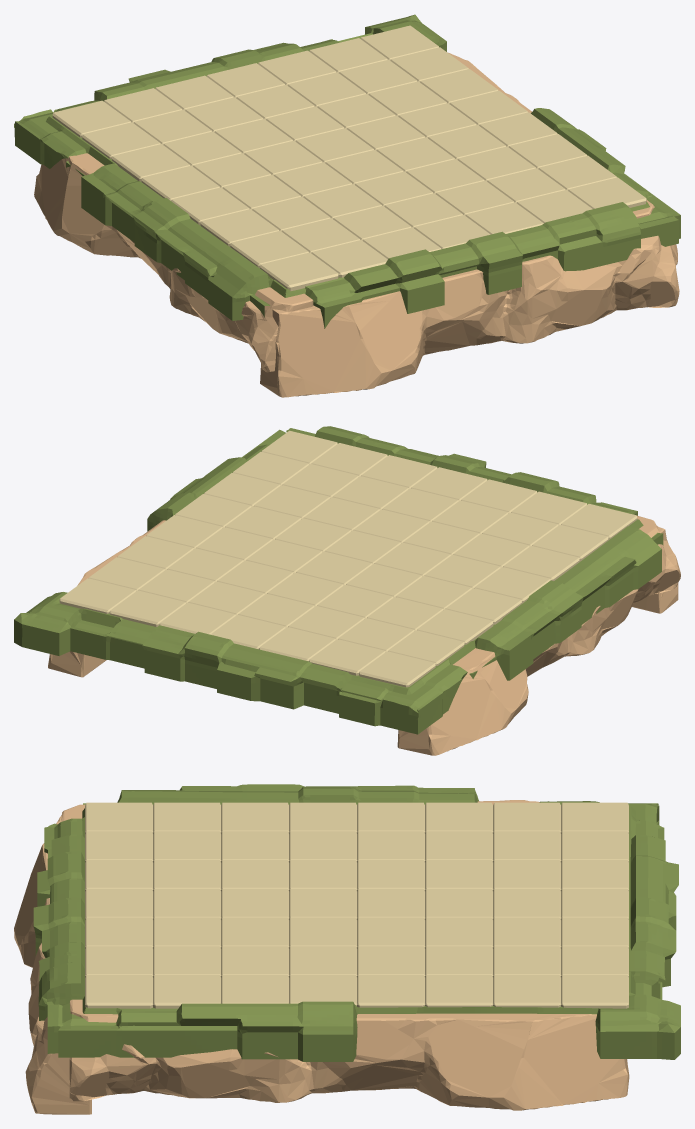
The model's file is Ground_01.fbx.
3 views of the same model, one above another, from view 1: azimuth 30°, elevation 25°; view 2: azimuth 150°, elevation 25°; view 3: azimuth 270°, elevation 25° (orthographic). The views are drawn at different scales.
Visible parts, largest first — view 1: Cube.090, Cube.089, Cube.093, Cube.116, Cube.111, Cube.114, Cube.103, Cube.110, Cube.115, Cube.112, Cube.117, Cube.113 (+48 smaller); view 2: Cube.090, Cube.093, Cube.103, Cube.108, Cube.109, Cube.104, Cube.111, Cube.112, Cube.114, Cube.110, Cube.115, Cube.116 (+48 smaller); view 3: Cube.090, Cube.098, Cube.089, Cube.122, Cube.109, Cube.149, Cube.163, Cube.156, Cube.128, Cube.126, Cube.140, Cube.115 (+47 smaller).
Part boxes in pixels (x1,y1,x2,y2): Cube.090: [14, 14, 680, 328]; Cube.089: [260, 235, 679, 397]; Cube.093: [34, 153, 313, 372]; Cube.116: [260, 252, 338, 291]; Cube.111: [112, 144, 190, 181]; Cube.114: [200, 209, 279, 246]; Cube.103: [52, 100, 130, 137]; Cube.110: [82, 122, 160, 158]; Cube.115: [230, 231, 308, 268]; Cube.112: [141, 165, 219, 200]; Cube.117: [311, 240, 387, 277]; Cube.113: [171, 187, 249, 225]; Cube.090: [14, 426, 663, 734]; Cube.093: [397, 515, 680, 755]; Cube.103: [359, 651, 435, 687]; Cube.108: [109, 590, 185, 626]; Cube.109: [59, 578, 135, 613]; Cube.104: [309, 639, 385, 675]; Cube.111: [417, 609, 493, 644]; Cube.112: [445, 588, 521, 624]; Cube.114: [503, 546, 579, 580]; Cube.110: [388, 630, 464, 665]; Cube.115: [532, 525, 608, 561]; Cube.116: [561, 504, 637, 540]; Cube.090: [33, 784, 680, 1061]; Cube.098: [69, 999, 629, 1110]; Cube.089: [14, 815, 91, 1114]; Cube.122: [85, 975, 152, 1008]; Cube.109: [561, 975, 628, 1008]; Cube.149: [357, 975, 424, 1007]; Cube.163: [493, 975, 560, 1007]; Cube.156: [425, 975, 492, 1007]; Cube.128: [153, 975, 220, 1008]; Cube.126: [153, 917, 220, 948]; Cube.140: [289, 917, 356, 948]; Cube.115: [153, 802, 220, 833].
Size of the model in its own units: 490 by 103 by 554.
